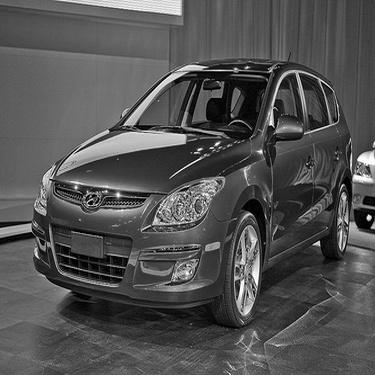car: (19, 42, 365, 317)
